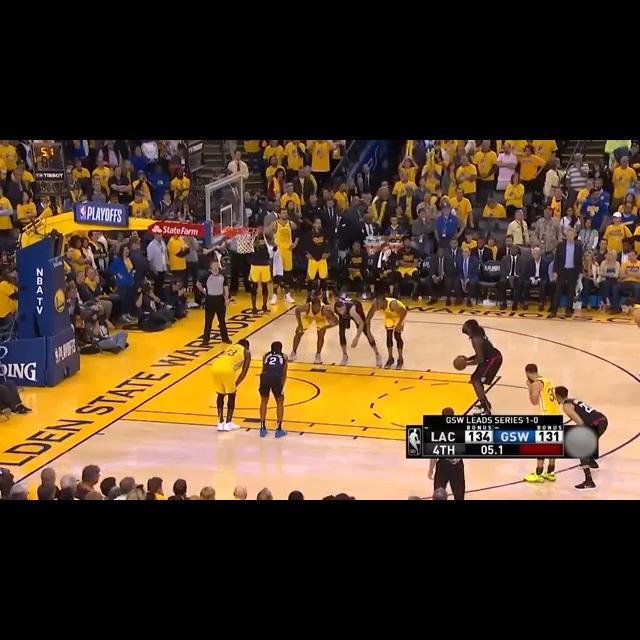basketball: (453, 355, 466, 370)
hoop: (235, 226, 258, 254)
